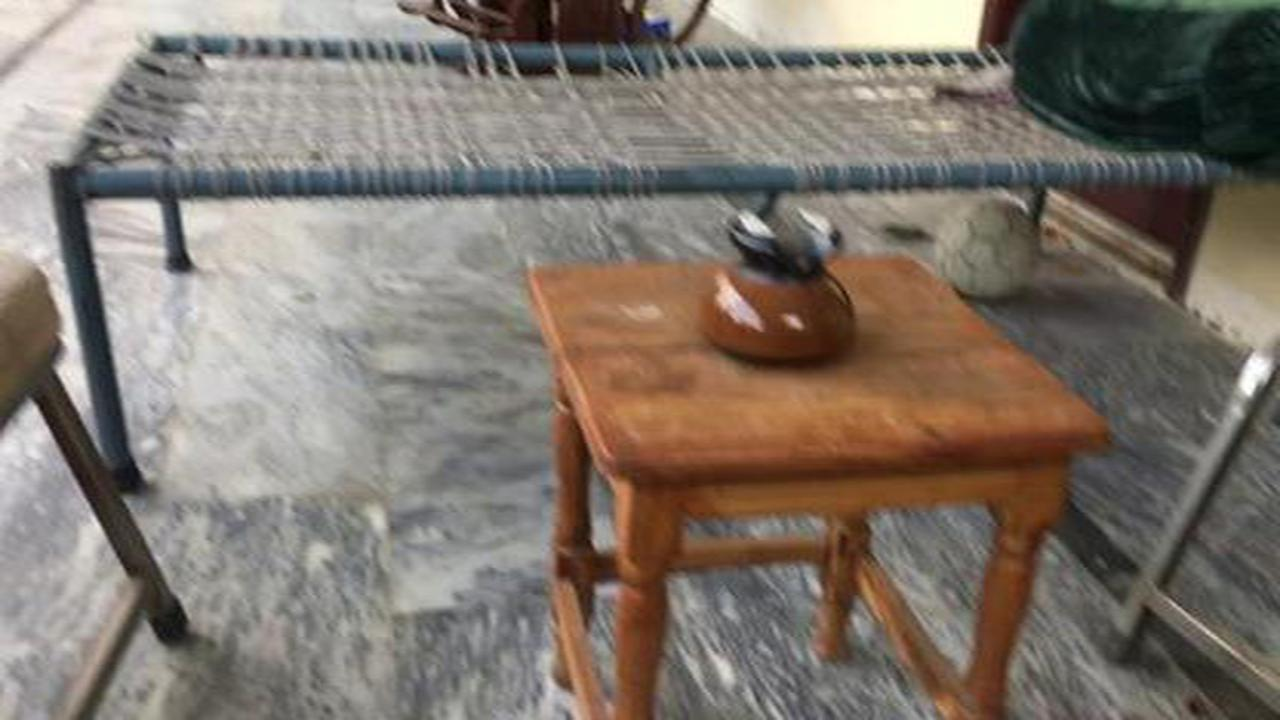insulator_pin: (693, 186, 877, 380)
